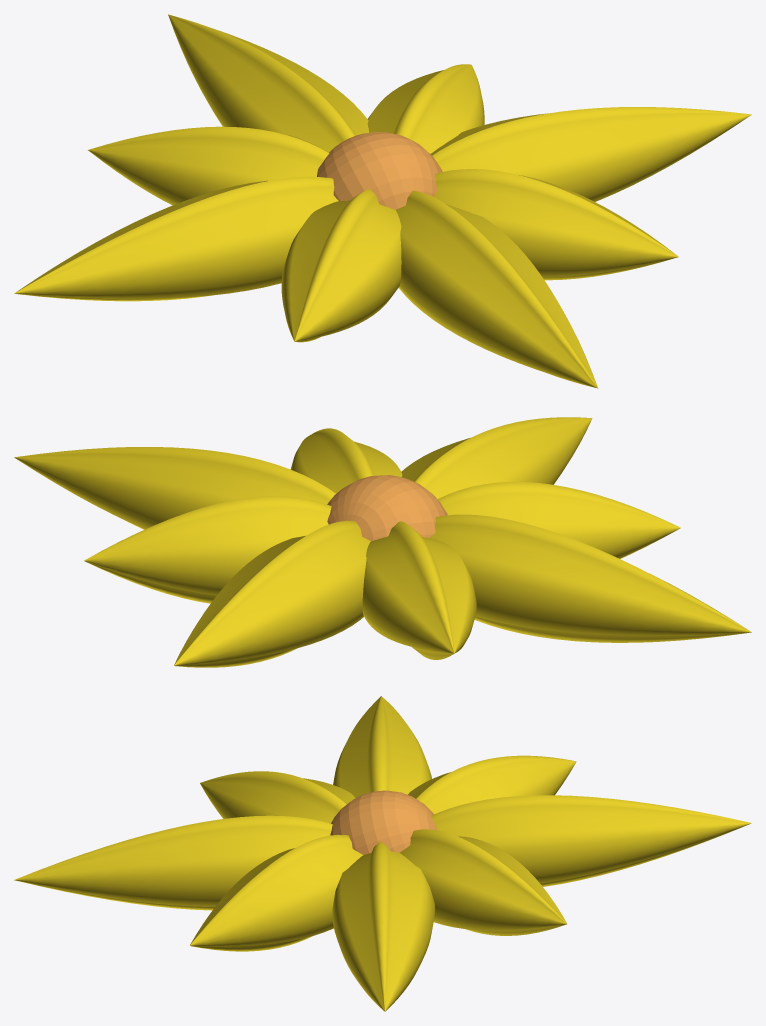
3 views of the same model, one above another, from view 1: azimuth 30°, elevation 25°; view 2: azimuth 150°, elevation 25°; view 3: azimuth 270°, elevation 25° (orthographic). The views are drawn at different scales.
Visible parts, largest first — view 1: NurbsPath, Sphere; view 2: NurbsPath, Sphere; view 3: NurbsPath, Sphere.
Part boxes in pixels (<box>): NurbsPath: <box>14,14,751,388</box>; Sphere: <box>317,132,442,209</box>; NurbsPath: <box>14,417,751,667</box>; Sphere: <box>327,475,447,540</box>; NurbsPath: <box>14,696,751,1011</box>; Sphere: <box>330,790,436,854</box>.
Bounding box in the file's own units: 39.1 × 6.68 × 38.95.
